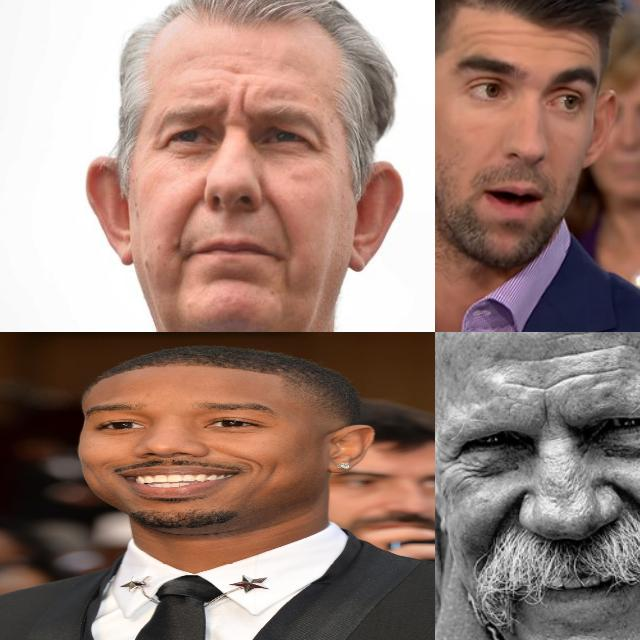crows_feet: (438, 447, 467, 475), (150, 130, 168, 154), (308, 138, 330, 156)
forehead: (504, 367, 614, 391), (517, 343, 629, 363), (469, 22, 527, 50), (552, 33, 596, 57), (548, 332, 640, 340), (218, 61, 250, 78)
frown_line: (534, 398, 556, 432), (232, 90, 250, 120)
gummy_smile: (488, 493, 518, 539), (266, 193, 292, 237), (177, 192, 201, 234), (232, 454, 276, 476), (615, 481, 640, 511), (88, 460, 115, 475)
